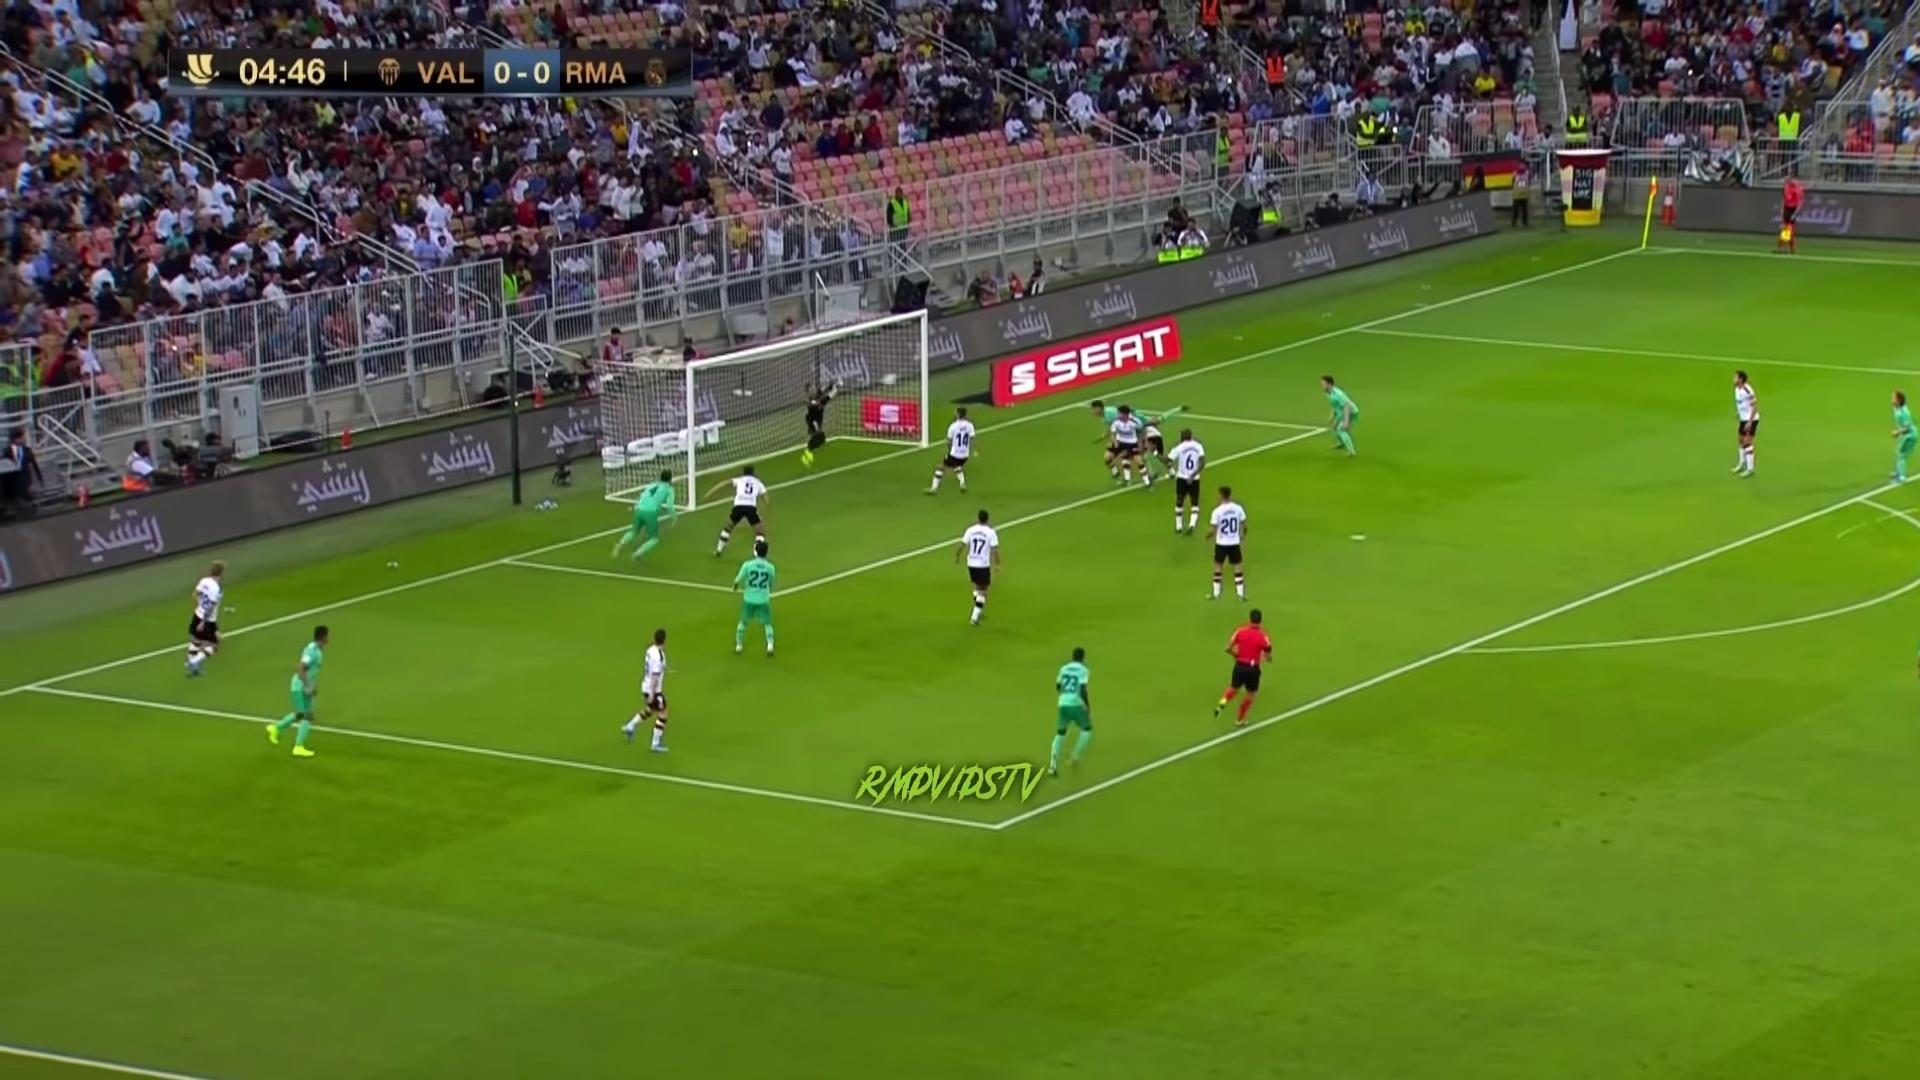ball: (880, 372, 897, 385)
